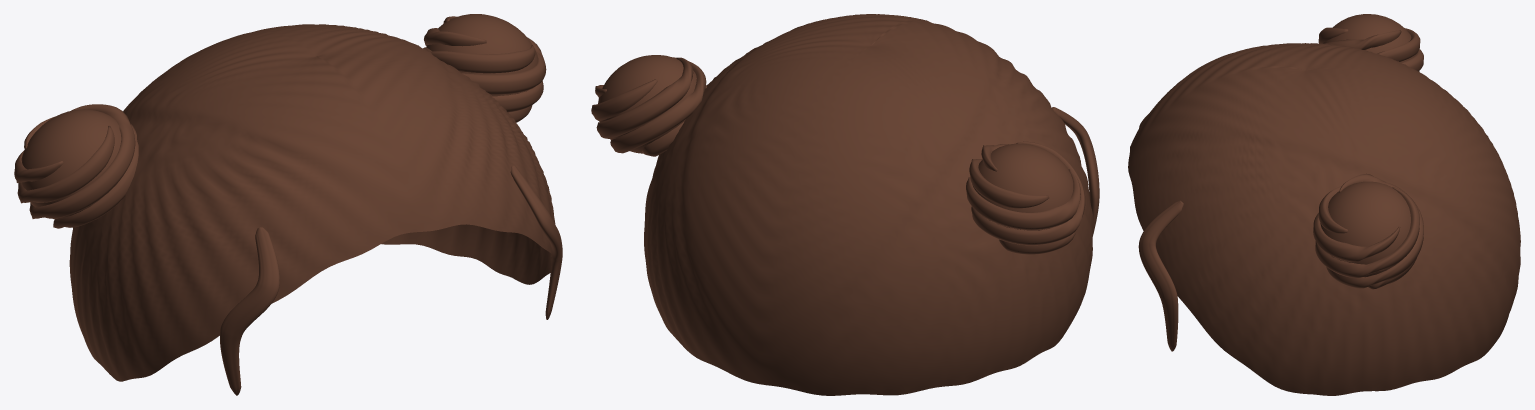
The model's file is Feminine-space-buns-default-scarf-hair.glb.
The picture shows the model from 3 angles, left to right: view 1: azimuth 30°, elevation 25°; view 2: azimuth 150°, elevation 25°; view 3: azimuth 270°, elevation 25°; orthographic projection. The views are drawn at different scales.
Parts seen in each view (by area): view 1: 226 hair / Hair / chestnut226; view 2: 226 hair / Hair / chestnut226; view 3: 226 hair / Hair / chestnut226.
Part boxes in pixels (<box>): 226 hair / Hair / chestnut226: <box>14,14,562,395</box>; 226 hair / Hair / chestnut226: <box>591,14,1099,395</box>; 226 hair / Hair / chestnut226: <box>1128,14,1520,395</box>.
Size of the model in its own units: 0.977 by 0.518 by 0.7287.
